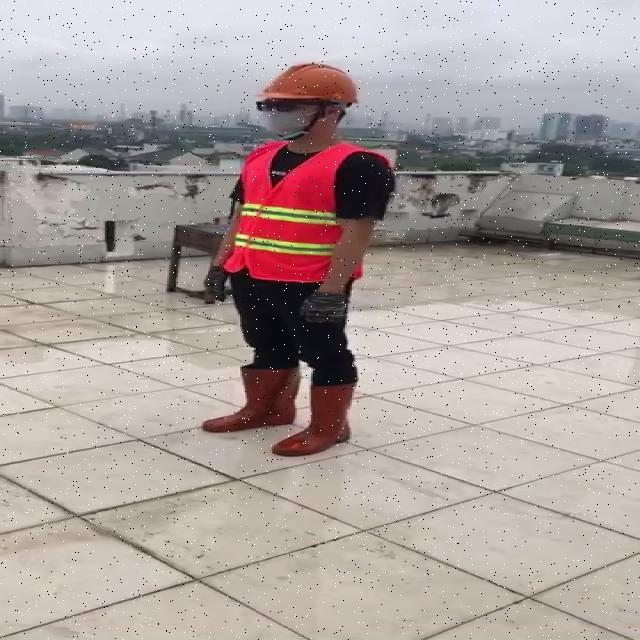Hard_hat: (250, 58, 365, 115)
Person: (199, 51, 404, 581)
Vest: (234, 138, 346, 284)
